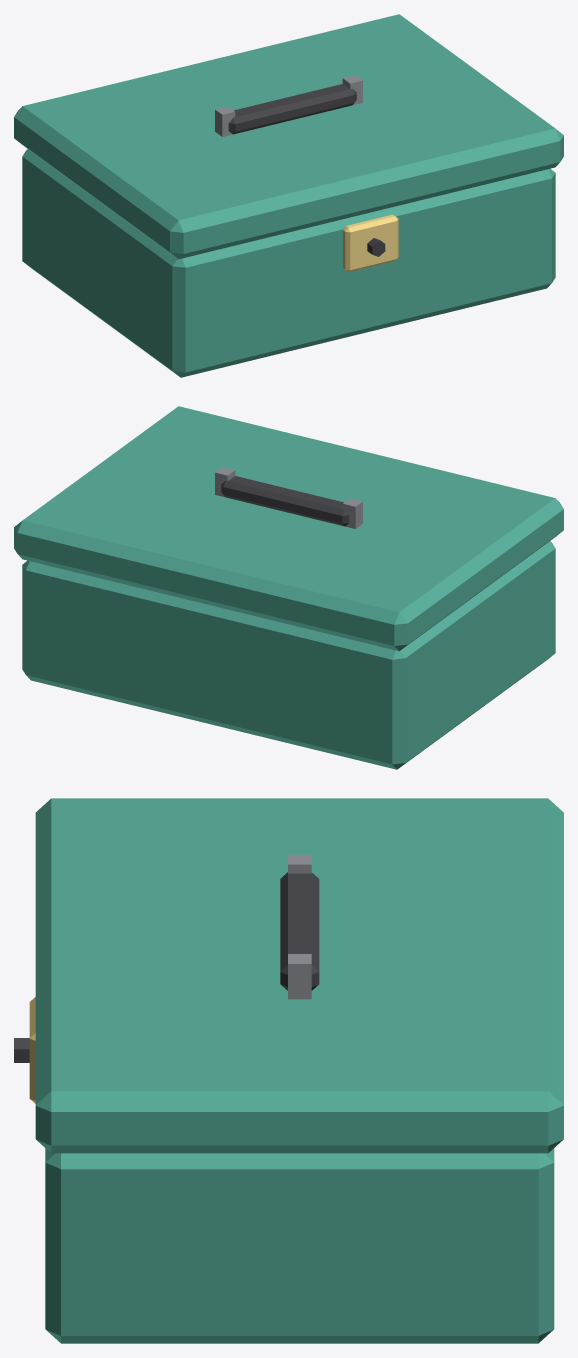
The model's file is prop_cashbox_01.glb.
3 renders of one model, top to bottom at view 1: azimuth 30°, elevation 25°; view 2: azimuth 150°, elevation 25°; view 3: azimuth 270°, elevation 25°, orthographic. The views are drawn at different scales.
Visible parts, largest first — view 1: prop_cashbox_01_lid, prop_cashbox_01_body; view 2: prop_cashbox_01_lid, prop_cashbox_01_body; view 3: prop_cashbox_01_lid, prop_cashbox_01_body.
Part boxes in pixels (<box>): prop_cashbox_01_lid: <box>14,14,563,259</box>; prop_cashbox_01_body: <box>22,149,555,377</box>; prop_cashbox_01_lid: <box>14,406,563,651</box>; prop_cashbox_01_body: <box>22,541,555,769</box>; prop_cashbox_01_lid: <box>35,798,563,1153</box>; prop_cashbox_01_body: <box>14,997,554,1343</box>.
Bounding box in the file's own units: 0.37 × 0.1645 × 0.281.
